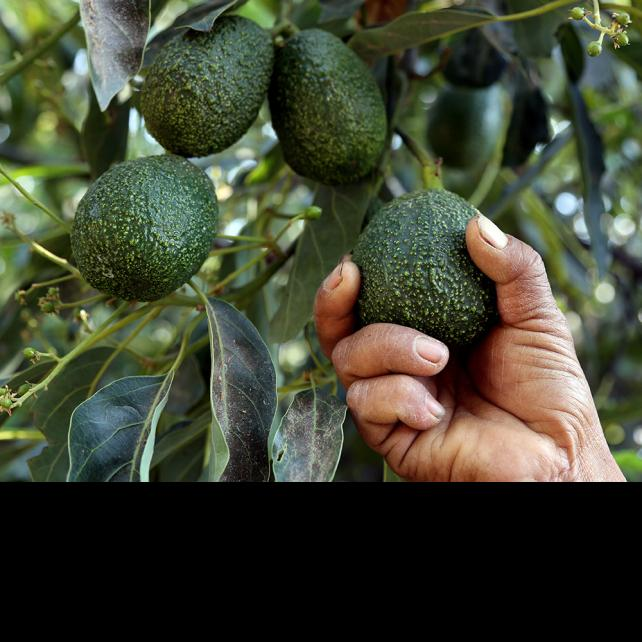unripe: (349, 188, 498, 352), (70, 154, 219, 302), (141, 16, 274, 158), (268, 28, 387, 185)
